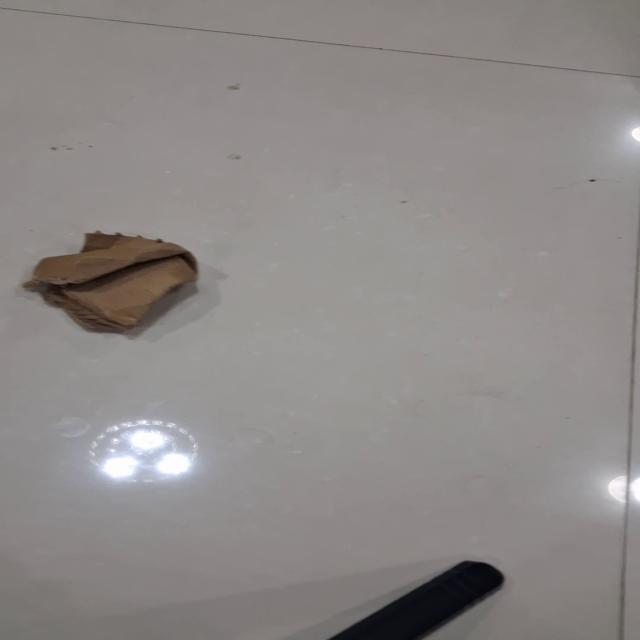paper: (25, 230, 198, 333)
